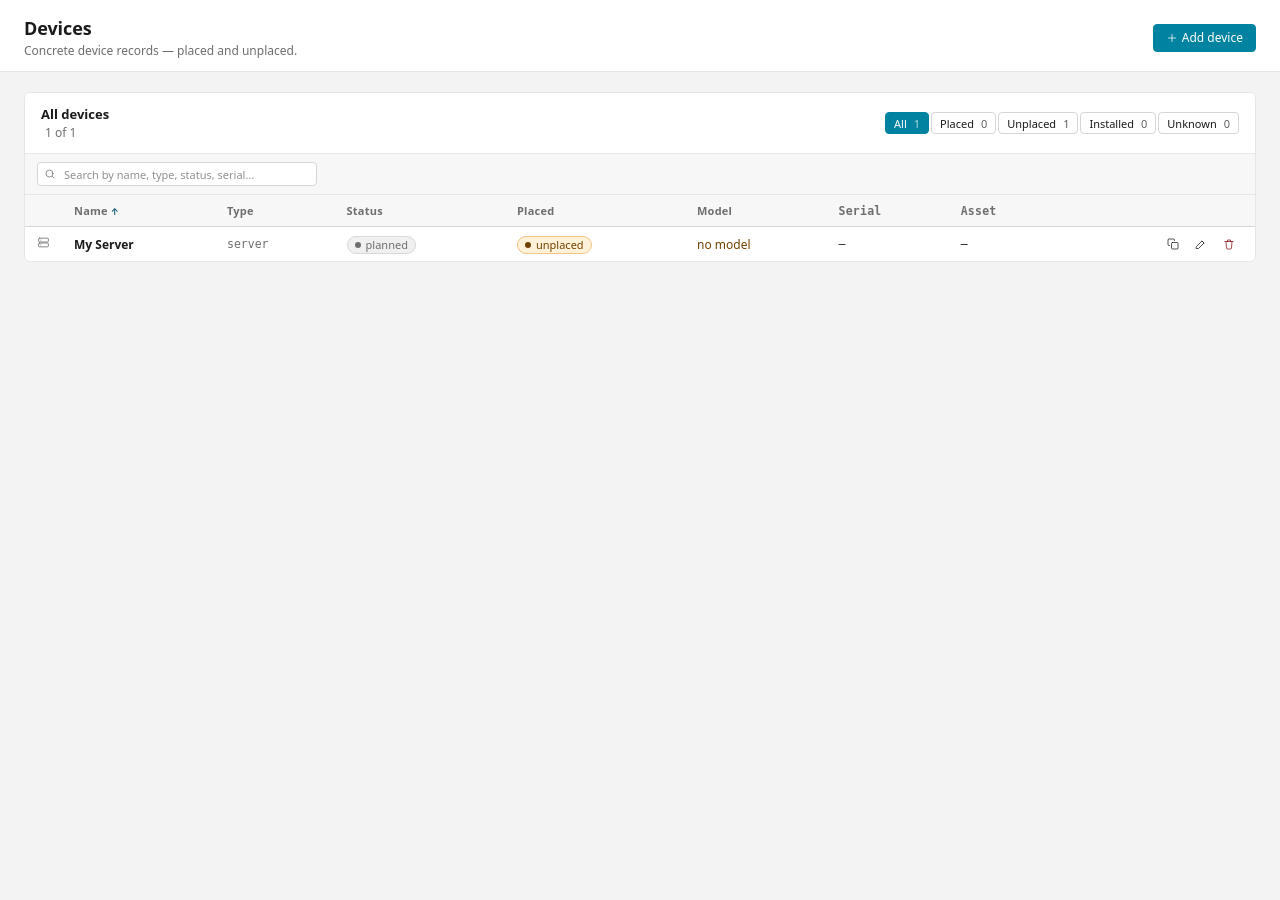
Test: DevicesPanel — work mode default status › Edit Device ignores work mode and uses the device's own status
Click the button named "Edit My Server": (1201, 244) [1187,233,1215,255]
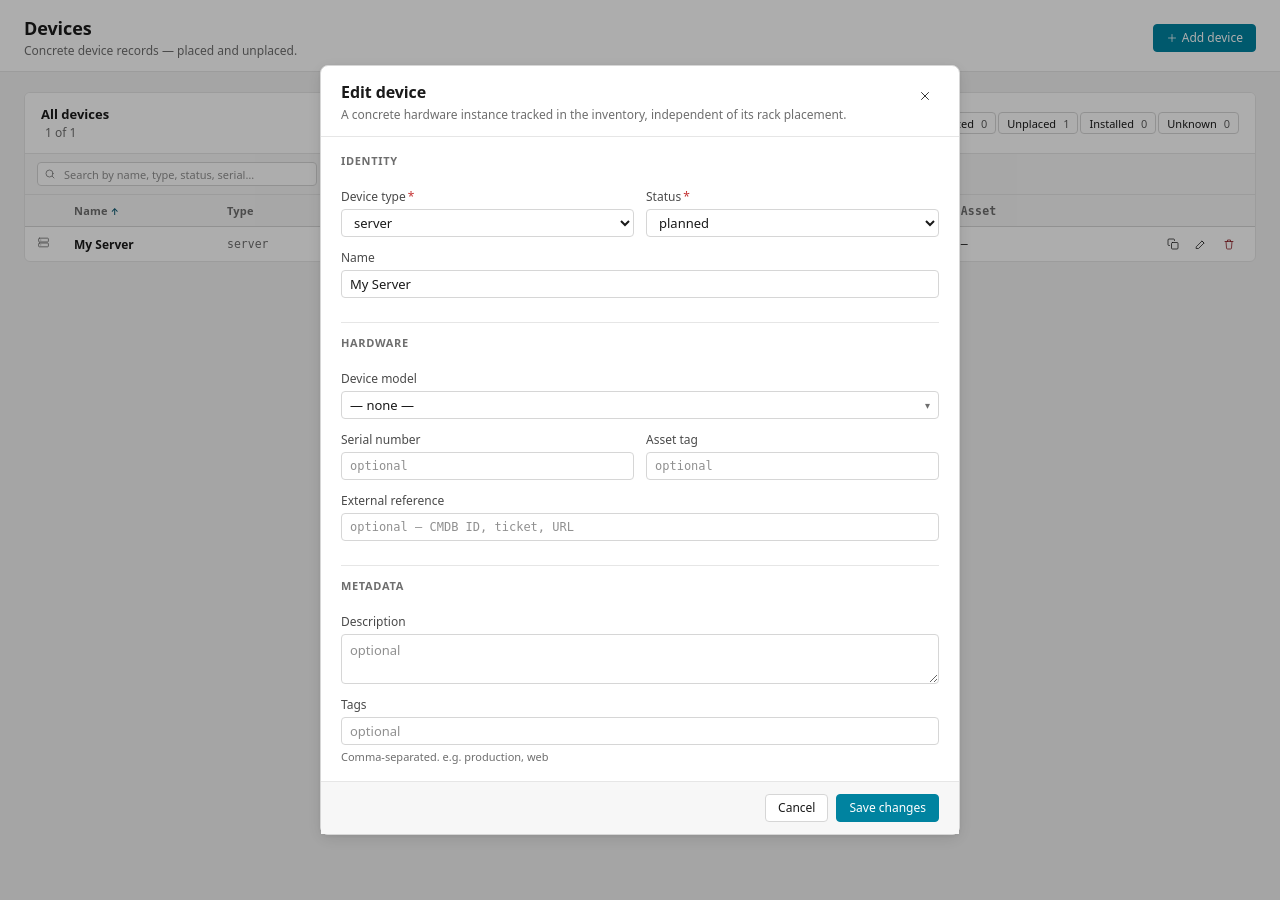
Check: the dropdown with test id "field-status" shows "planned", box [646,209,939,237]
